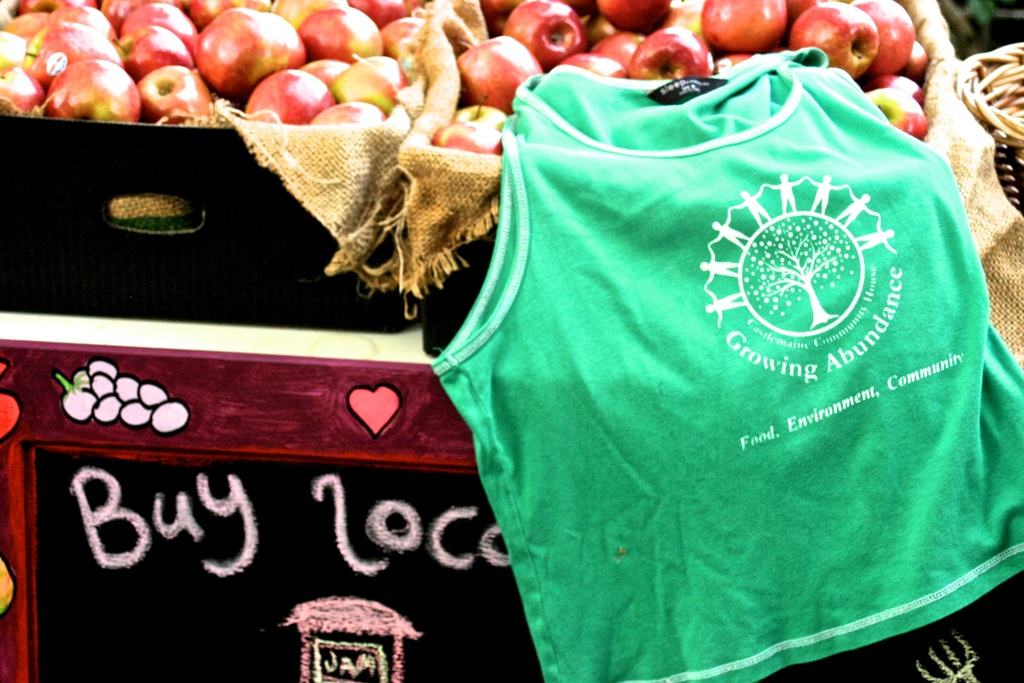Apple: (0, 0, 929, 155), (181, 16, 296, 83)
